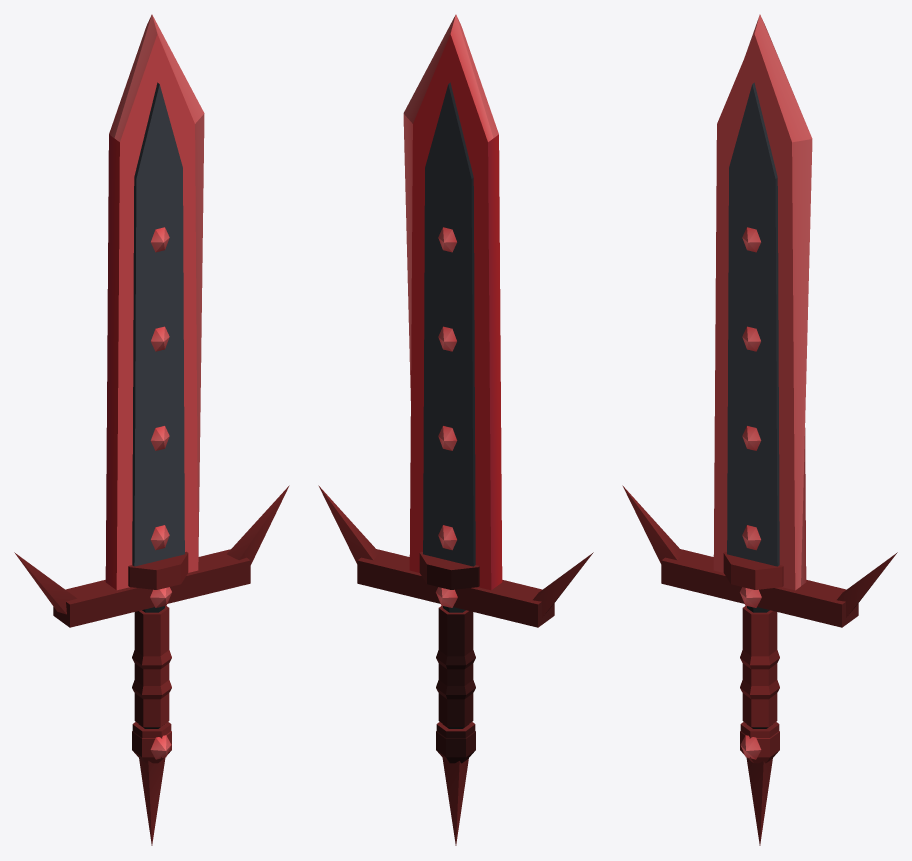
Rendered from knight_runeblade_3.gltf.
The picture shows the model from 3 angles, left to right: view 1: azimuth 30°, elevation 25°; view 2: azimuth 150°, elevation 25°; view 3: azimuth 330°, elevation 25°; orthographic projection.
Parts seen in each view (by area): view 1: knight_runeblade_3; view 2: knight_runeblade_3; view 3: knight_runeblade_3.
Part boxes in pixels (left/top/right/bottom): knight_runeblade_3: left=14, top=14, right=289, bottom=845; knight_runeblade_3: left=318, top=14, right=593, bottom=845; knight_runeblade_3: left=622, top=14, right=897, bottom=845.
Size of the model in its own units: 0.87 by 2.51 by 0.1848.
Materials: 1 (1 with a texture image).
